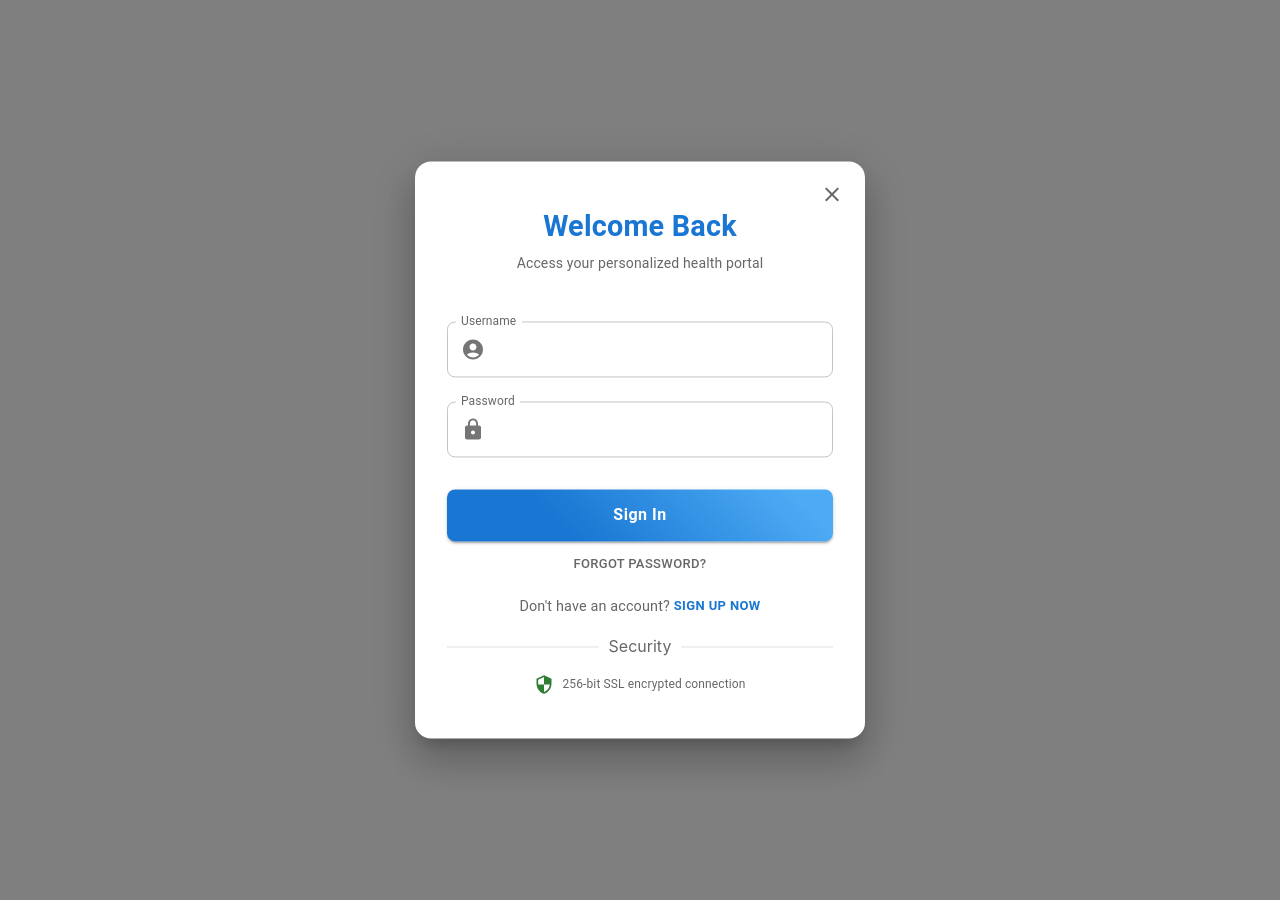
LoginPage › shows validation errors if fields are empty
Click the button "Sign In" at (640, 515), box [447,489,833,541]
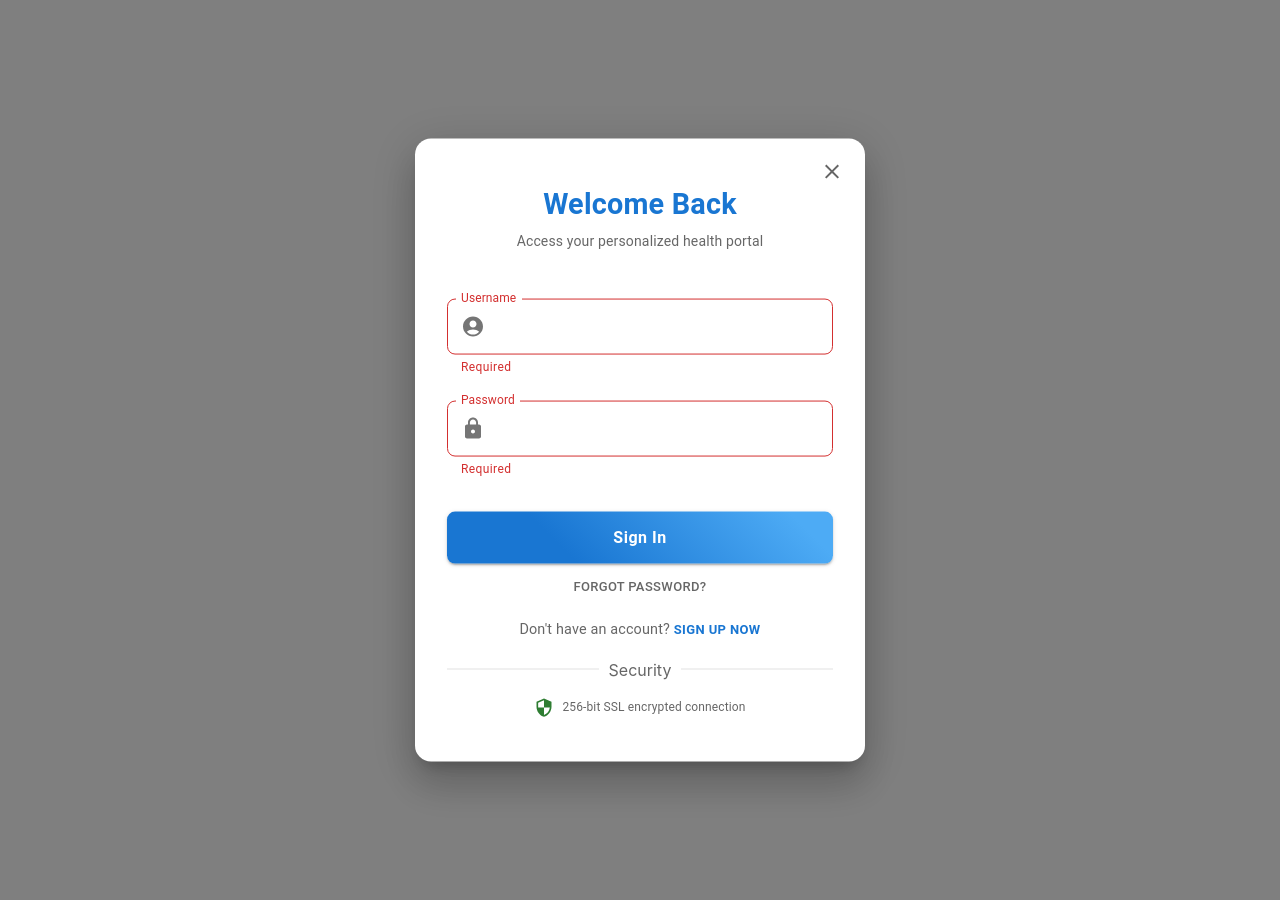
Now the text "Required" is shown 2 times, box [461,359,511,373]; [461,462,511,476]
